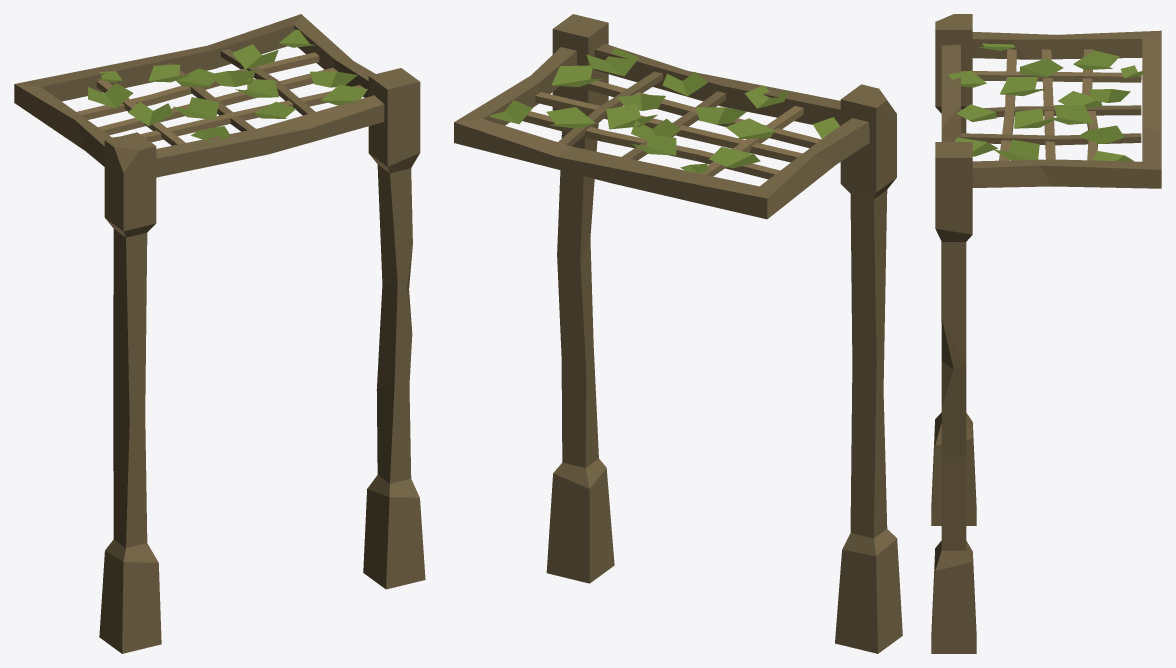
The model's file is Sunshade.fbx.
3 renders of one model, left to right at view 1: azimuth 30°, elevation 25°; view 2: azimuth 150°, elevation 25°; view 3: azimuth 270°, elevation 25°, orthographic. The views are drawn at different scales.
Parts seen in each view (by area): view 1: Sunshade; view 2: Sunshade; view 3: Sunshade.
Boxes of the visible parts, <box> form: Sunshade: <box>14,14,425,653</box>; Sunshade: <box>454,14,902,653</box>; Sunshade: <box>931,14,1161,653</box>.
Size of the model in its own units: 212 by 332 by 140.
